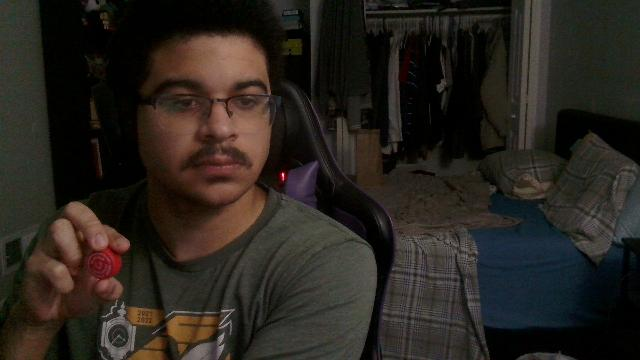cap: (86, 247, 122, 279)
